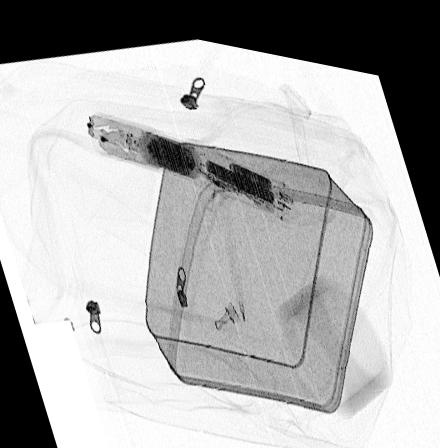Baton: (84, 105, 298, 209)
